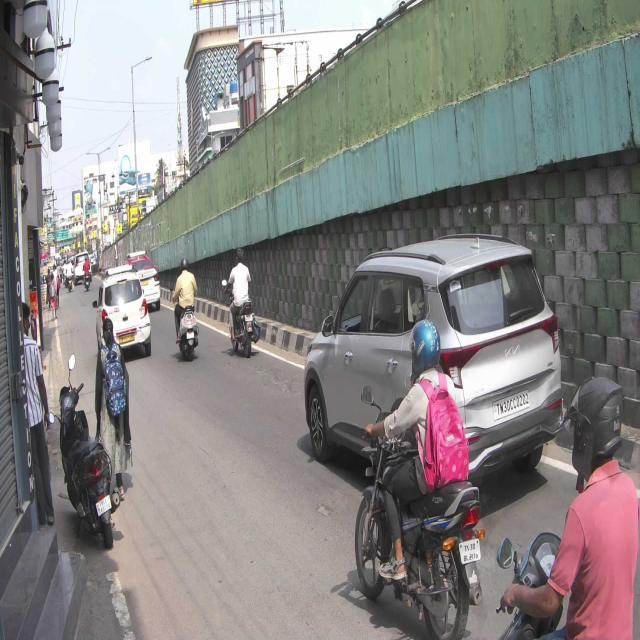single_rider: (353, 318, 486, 639)
